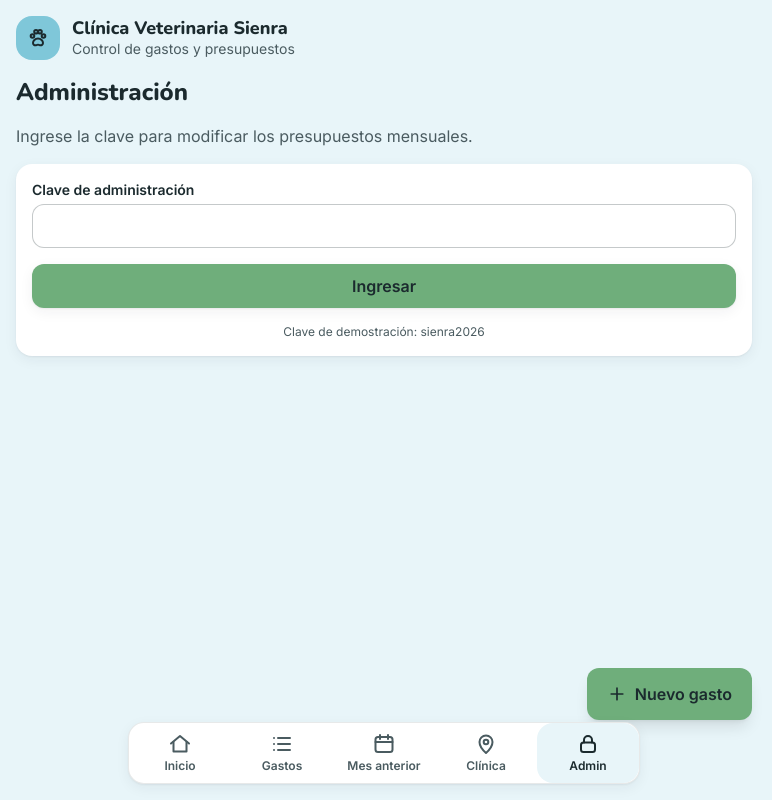
it: Budget editor › changes the dashboard status when a budget is edited
Step 1. Type "sienra2026" into the password field labelled "Clave de administración" → (384, 226), box [32,204,736,248]
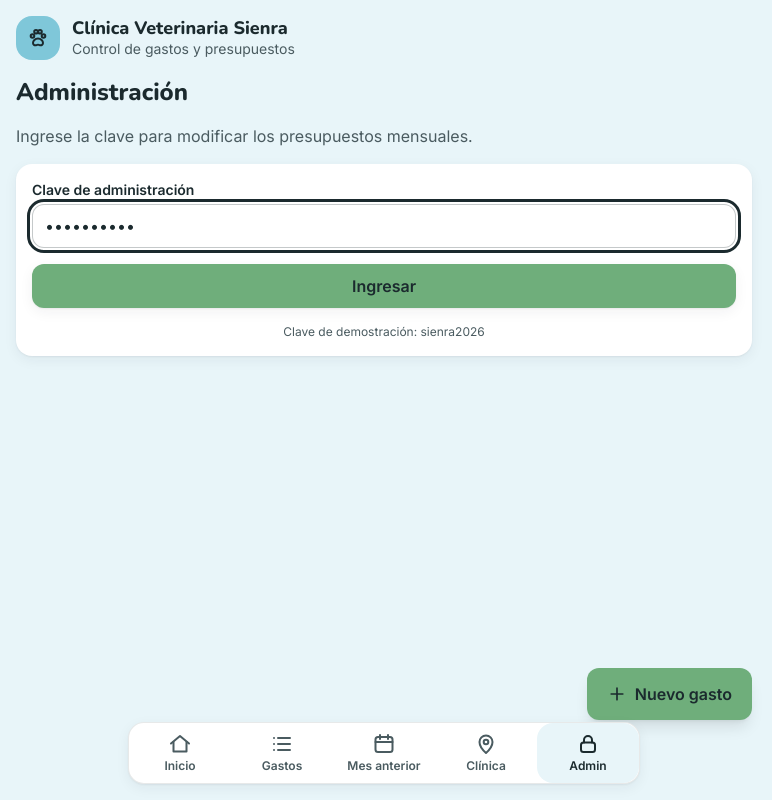
Step 2. Click the button "Ingresar" → (384, 286), box [32,264,736,308]
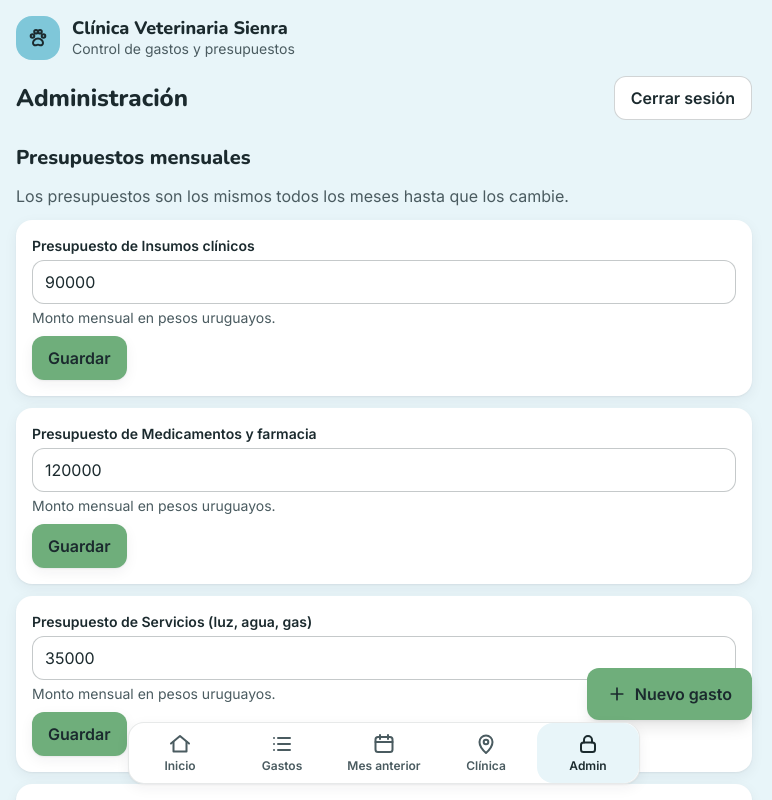
Step 3. Replace the text in the field labelled "Presupuesto de Medicamentos y farmacia" with "200000" → (384, 470), box [32,448,736,492]
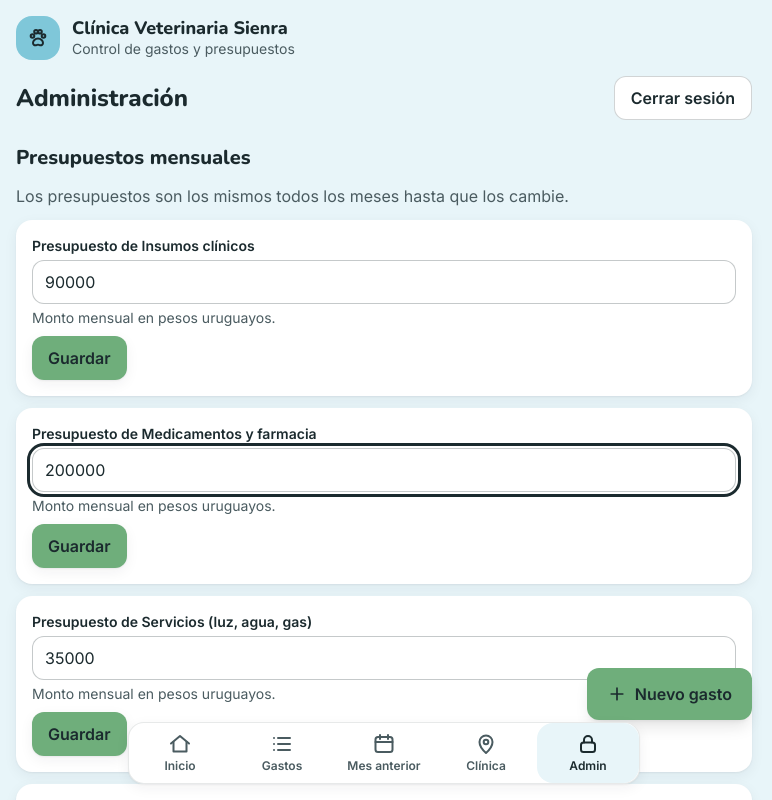
Step 4. Click the button with aria-label "Guardar presupuesto de Medicamentos y farmacia" → (79, 546), box [32,524,126,568]
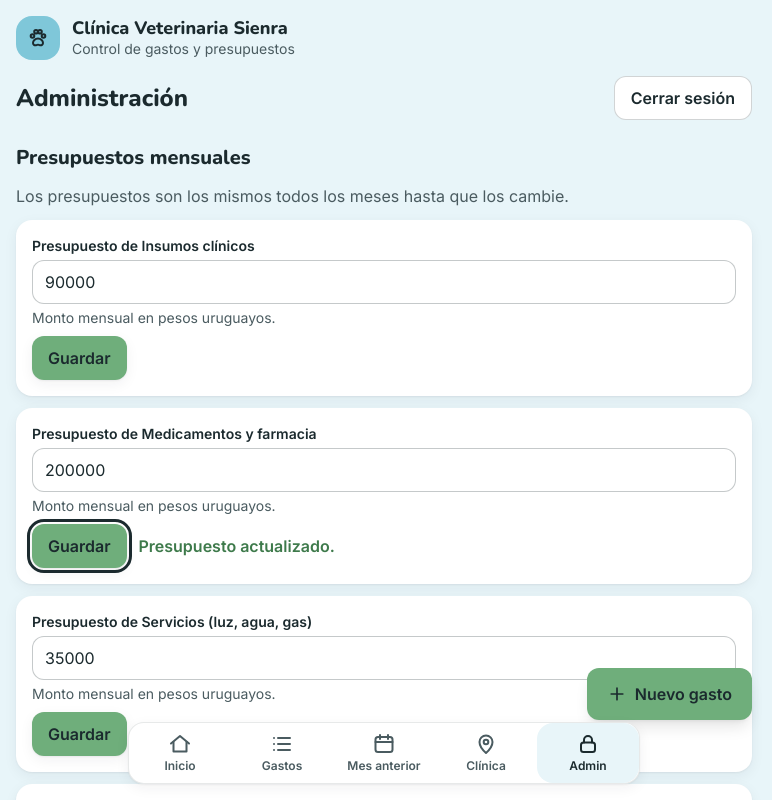
Now the text "Presupuesto actualizado." is shown, box [138,534,335,558]
Step 5. Click the link "Inicio" → (180, 752), box [164,732,196,773]
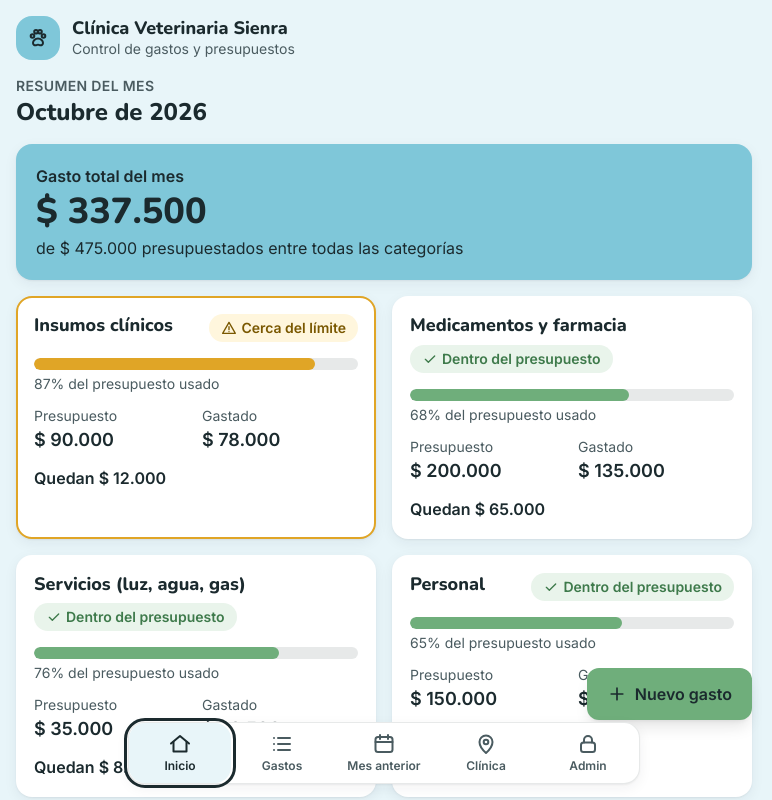
Now the text "$ 200.000" is shown, box [410,460,502,480]
